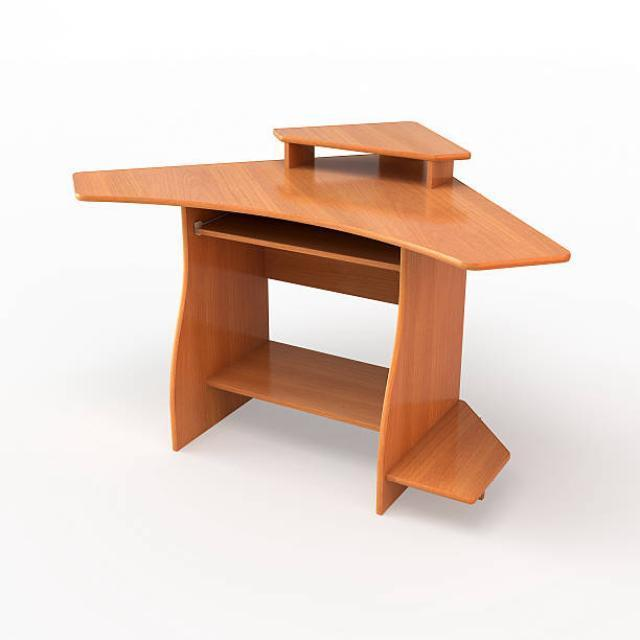table: (71, 122, 571, 516)
